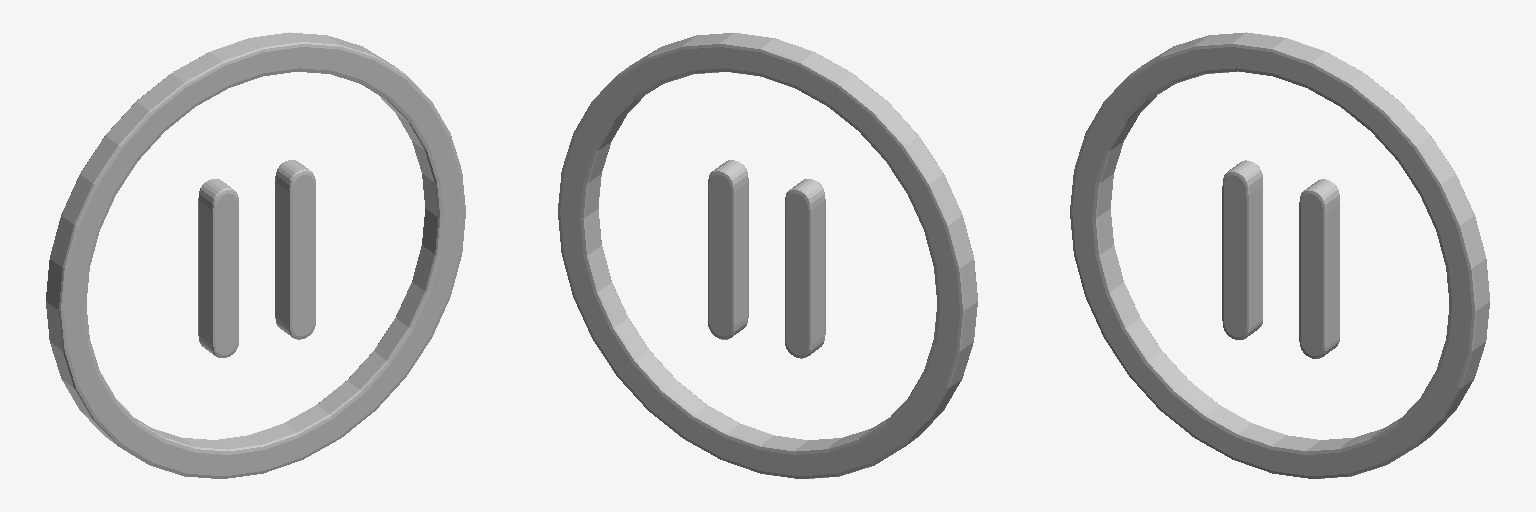
File: pause button.obj
3 views of the same model, side by side, from view 1: azimuth 30°, elevation 25°; view 2: azimuth 150°, elevation 25°; view 3: azimuth 330°, elevation 25° (orthographic).
Parts seen in each view (by area): view 1: s_pause; view 2: s_pause; view 3: s_pause.
Boxes of the visible parts, <box> form: s_pause: <box>46,32,465,478</box>; s_pause: <box>558,33,977,478</box>; s_pause: <box>1070,32,1489,478</box>.
Size of the model in its own units: 1.04 by 1.04 by 0.0689.